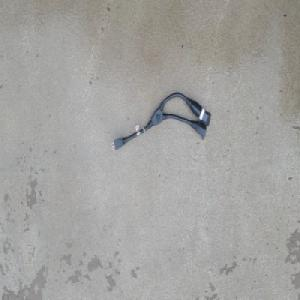Wire: (110, 90, 211, 151)
